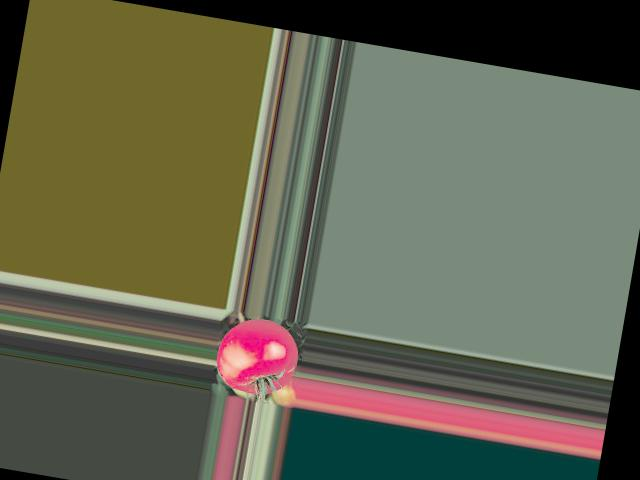tomato: (211, 312, 302, 399)
